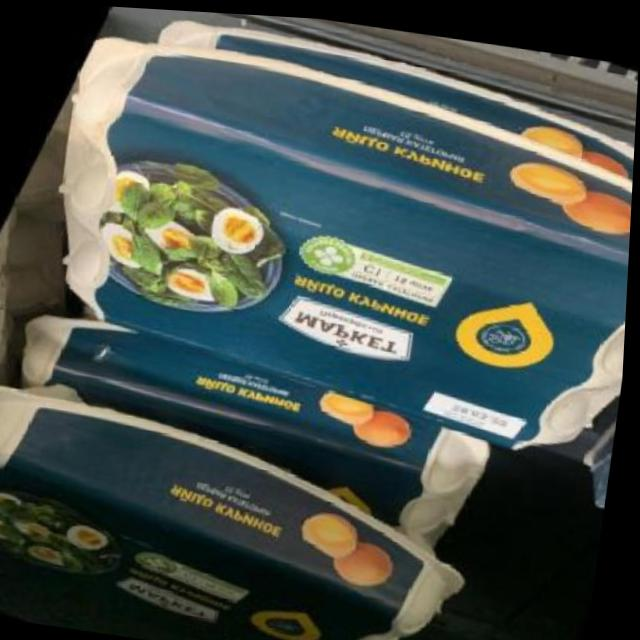Egg: (0, 0, 640, 483), (0, 359, 508, 640), (0, 284, 518, 535)
